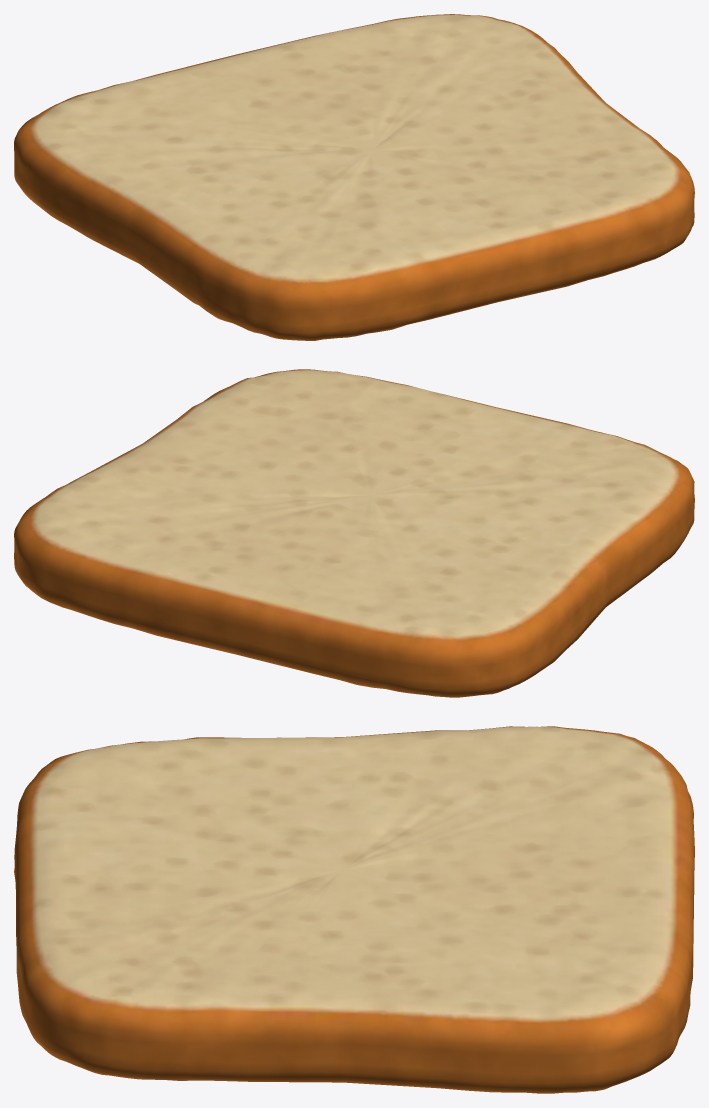
File: bread_white_bottom.glb
3 views of the same model, one above another, from view 1: azimuth 30°, elevation 25°; view 2: azimuth 150°, elevation 25°; view 3: azimuth 270°, elevation 25° (orthographic). The views are drawn at different scales.
Parts seen in each view (by area): view 1: EX_Bread_white_bottom; view 2: EX_Bread_white_bottom; view 3: EX_Bread_white_bottom.
Boxes of the visible parts, left/top/right/bottom form: EX_Bread_white_bottom: left=14, top=14, right=694, bottom=340; EX_Bread_white_bottom: left=14, top=369, right=694, bottom=697; EX_Bread_white_bottom: left=14, top=726, right=694, bottom=1093.
Bounding box in the file's own units: 0.1078 × 0.0136 × 0.1001.
Materials: 1 (1 with a texture image).
